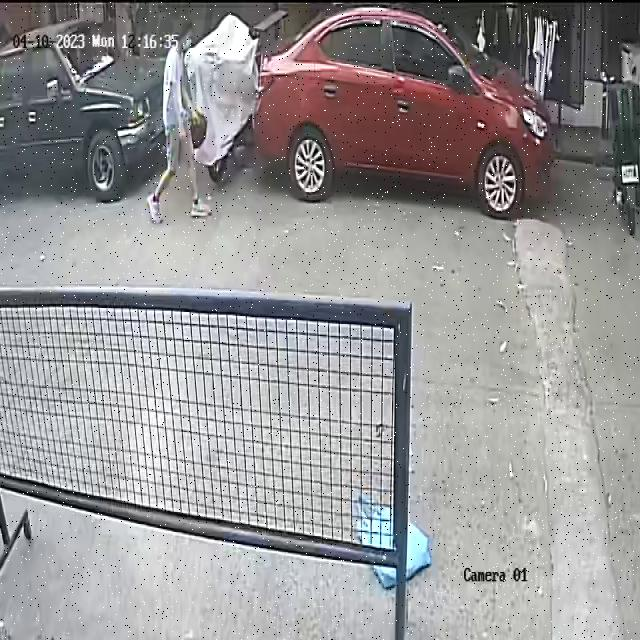garbage_dumping: (351, 472, 434, 592), (188, 102, 207, 150)
